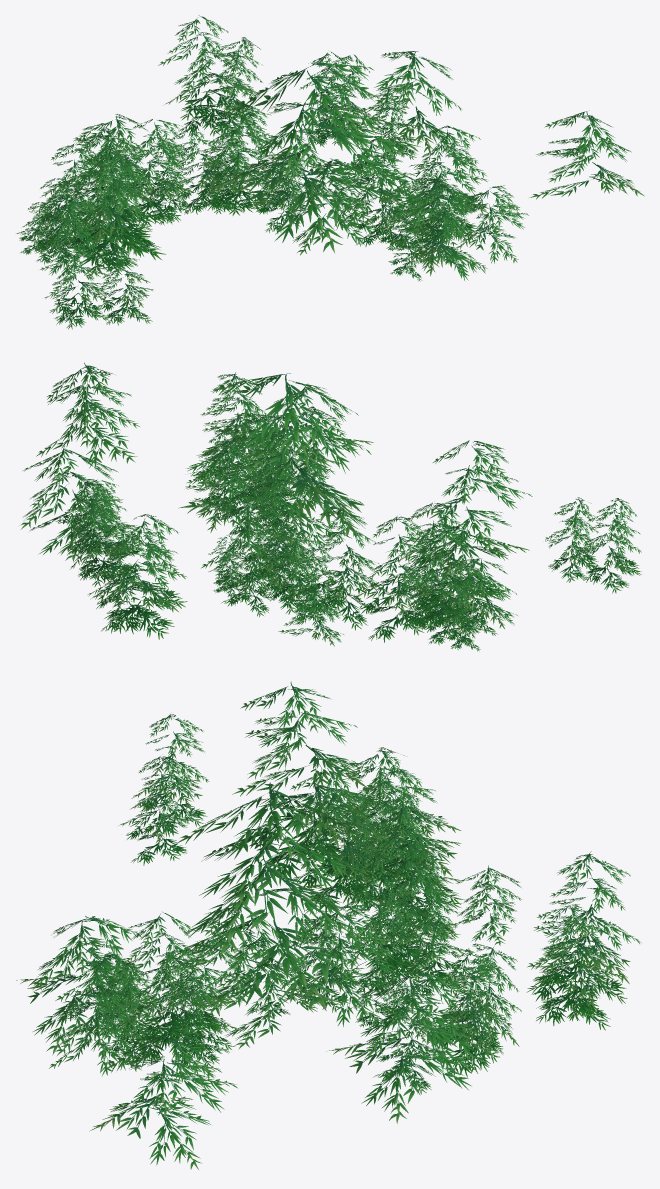
File: Area_07_2.fbx
The picture shows the model from 3 angles, top to bottom: view 1: azimuth 30°, elevation 25°; view 2: azimuth 150°, elevation 25°; view 3: azimuth 270°, elevation 25°; orthographic projection. The views are drawn at different scales.
Visible parts, largest first — view 1: Area_07_2; view 2: Area_07_2; view 3: Area_07_2.
Boxes of the visible parts, <box> form: Area_07_2: <box>16,15,644,329</box>; Area_07_2: <box>21,362,641,651</box>; Area_07_2: <box>16,681,641,1169</box>.
Bounding box in the file's own units: 8172 × 2446 × 5995.
